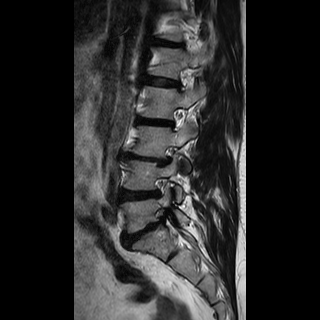RFS0: (162, 104, 191, 135)
RFS1: (148, 171, 174, 202)
RFS2: (150, 141, 180, 172)
